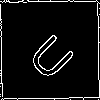U: (25, 25, 84, 84)
